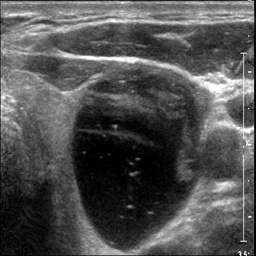mass: (76, 70, 201, 246)
